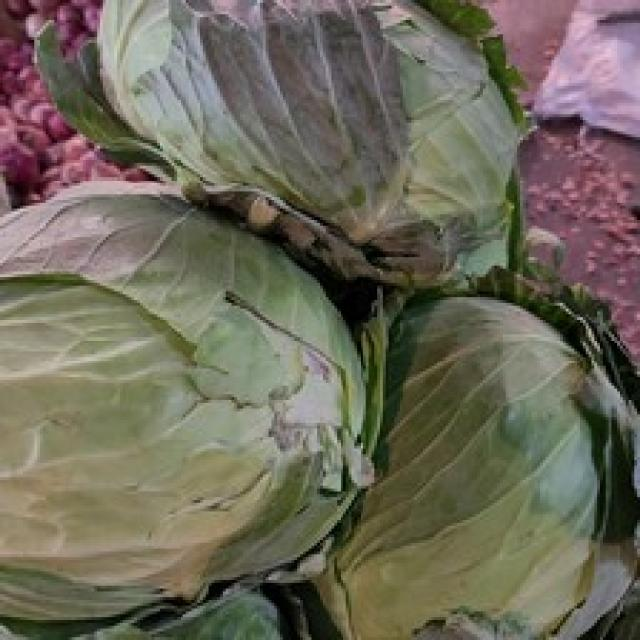Cabbage: (0, 174, 374, 619), (31, 0, 537, 291), (309, 266, 637, 637)
